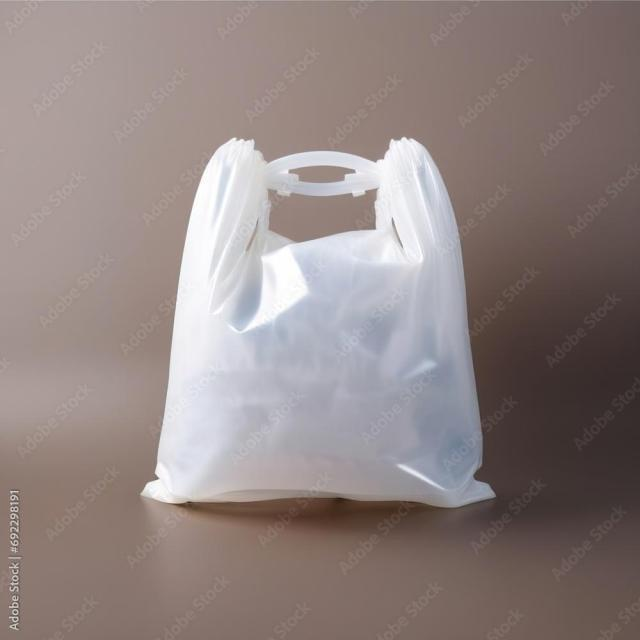Plastic_Bag: (153, 140, 492, 520)
